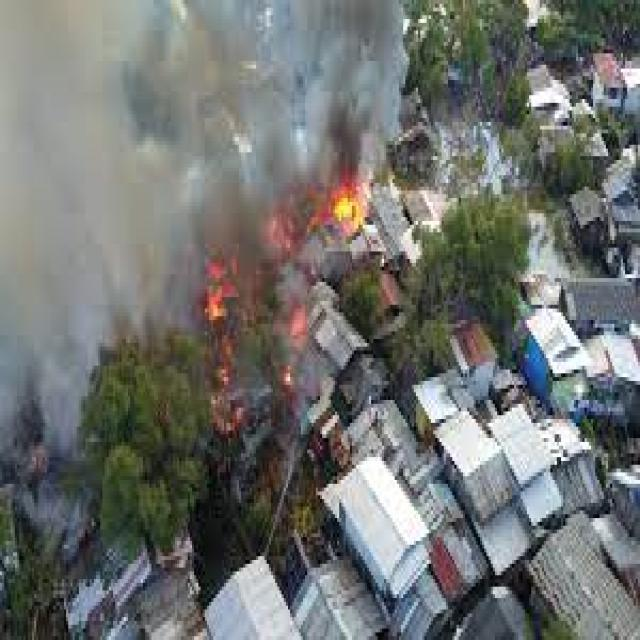Fire: (194, 250, 249, 448), (328, 175, 371, 245)
Smoke: (2, 0, 194, 358), (195, 2, 392, 172)
